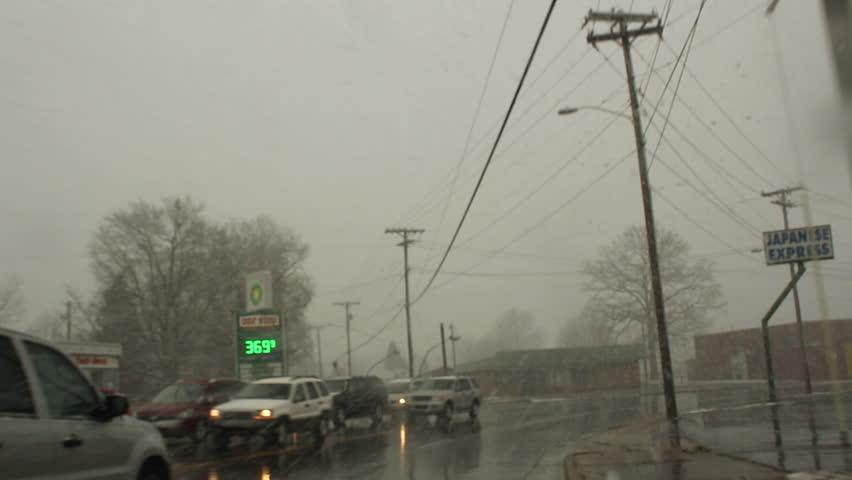car: (1, 325, 176, 479), (207, 375, 334, 453), (133, 374, 256, 443), (310, 374, 389, 426), (402, 376, 482, 423), (378, 376, 429, 417)
